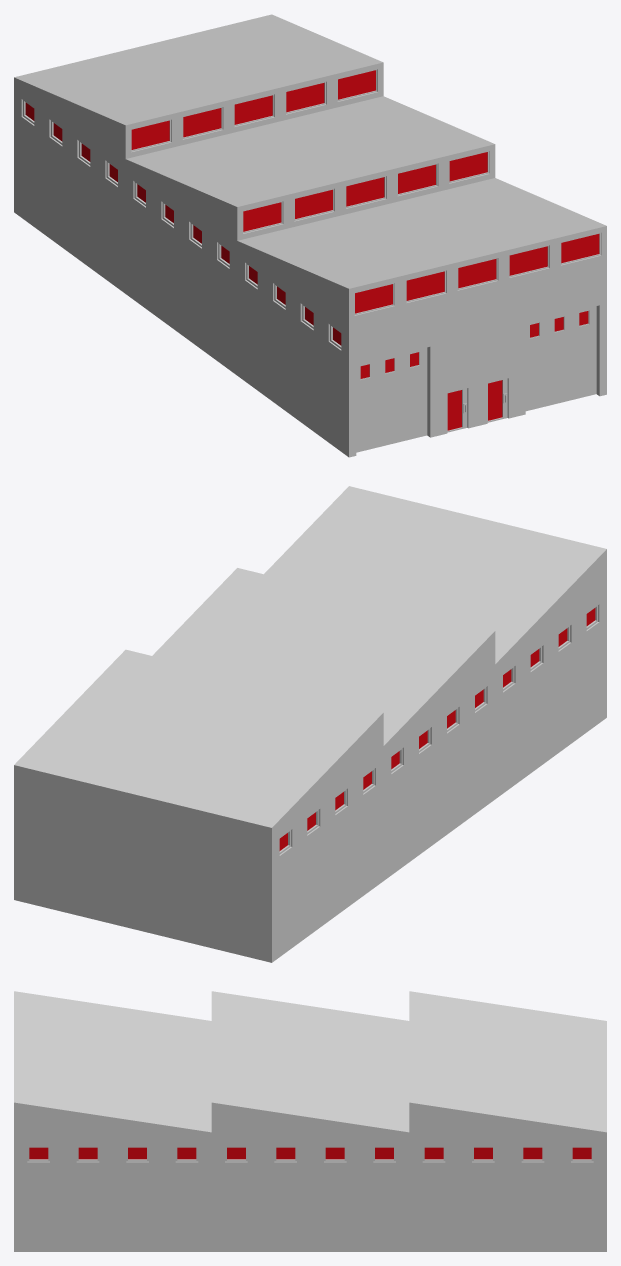
The model's file is SM_infrastructure_buildings_012.glb.
3 renders of one model, top to bottom at view 1: azimuth 30°, elevation 25°; view 2: azimuth 150°, elevation 25°; view 3: azimuth 270°, elevation 25°, orthographic. The views are drawn at different scales.
Visible parts, largest first — view 1: infrastructure_buildings_012; view 2: infrastructure_buildings_012; view 3: infrastructure_buildings_012.
Part boxes in pixels (x1,y1,x2,y2): infrastructure_buildings_012: (14, 14, 606, 457); infrastructure_buildings_012: (14, 486, 606, 962); infrastructure_buildings_012: (14, 991, 606, 1251).
Size of the model in its own units: 16 by 10 by 36.
